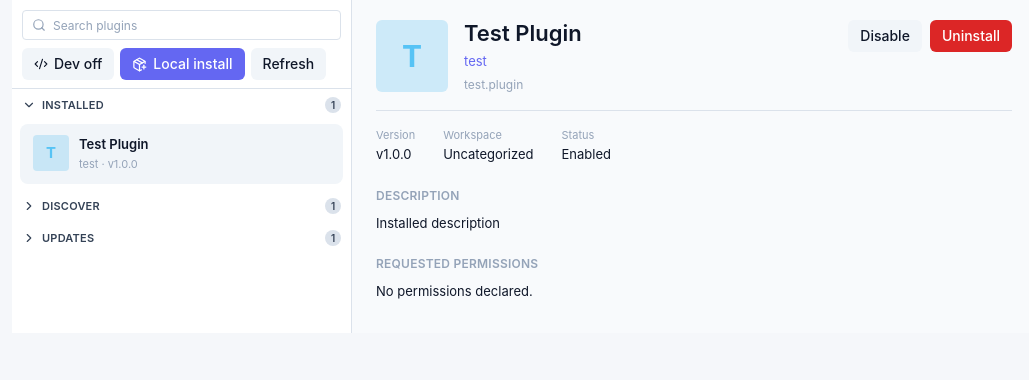
Test: plugin hub › localizes lifecycle failure and preserves installed details
Click the button "Disable".
click(885, 36)  # box [848,20,922,52]
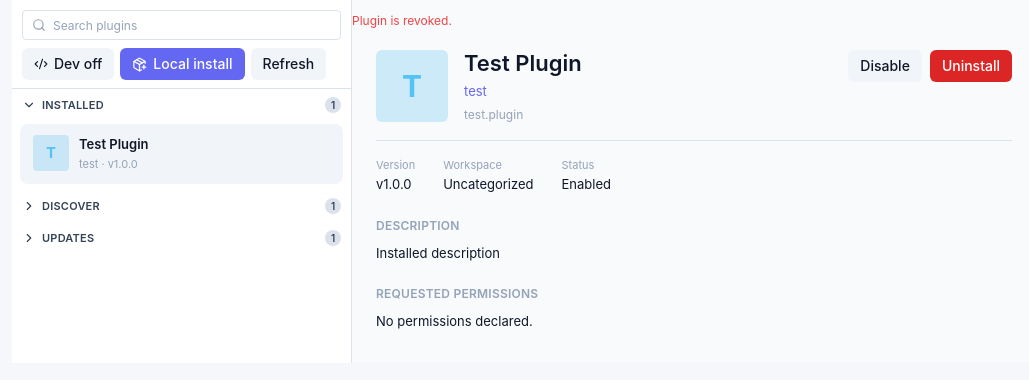
expect the text "Installed description" is shown: met, box [376,245,500,261]
expect the message "Plugin is revoked." is shown: met, box [352,13,452,28]
